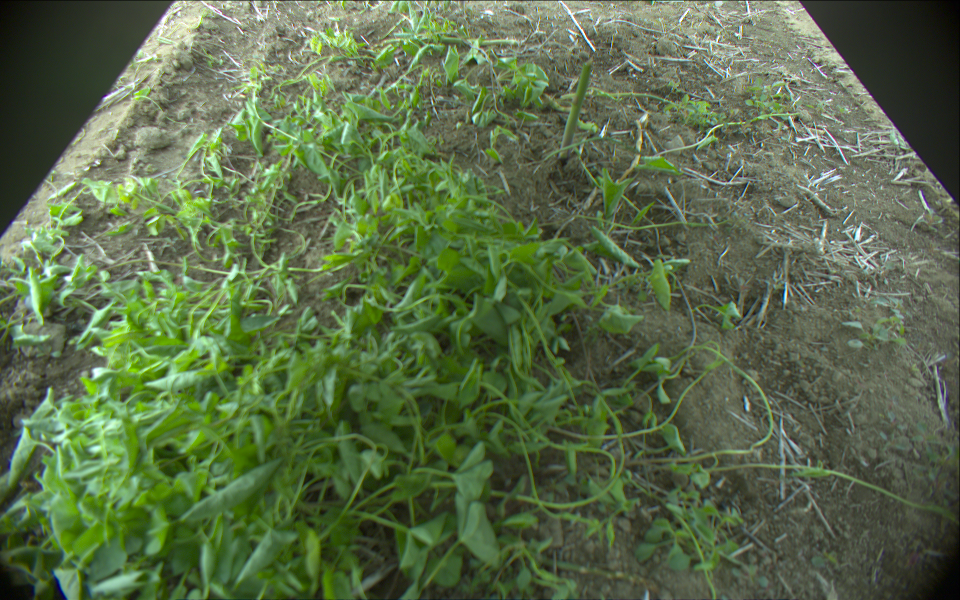aspa: (558, 61, 594, 157), (407, 35, 521, 46)
